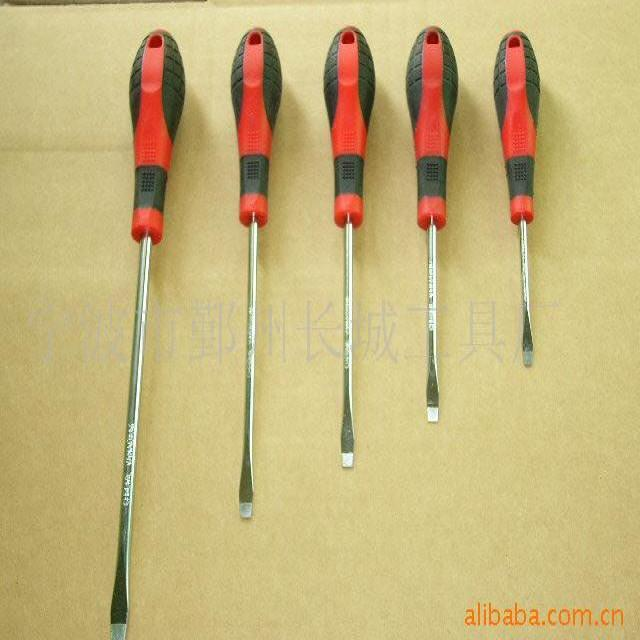screwdriver: (83, 25, 193, 640), (218, 8, 296, 536), (308, 18, 386, 475), (398, 21, 466, 442), (482, 18, 558, 384)
